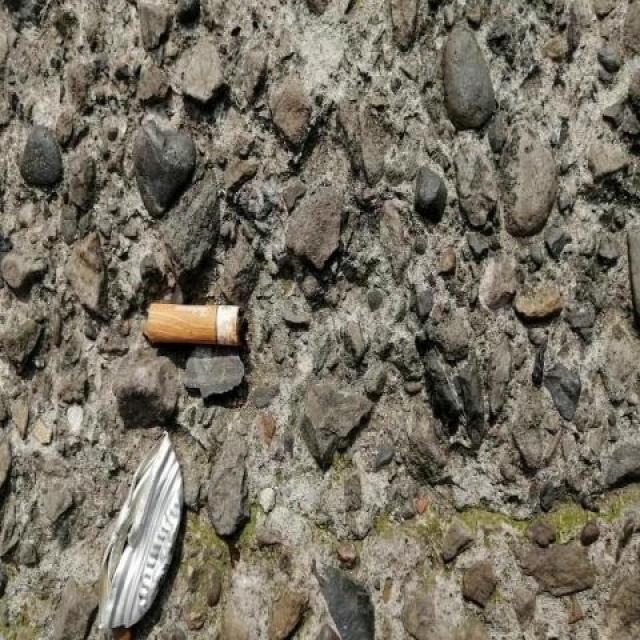non-organic waste: (143, 295, 249, 360)
